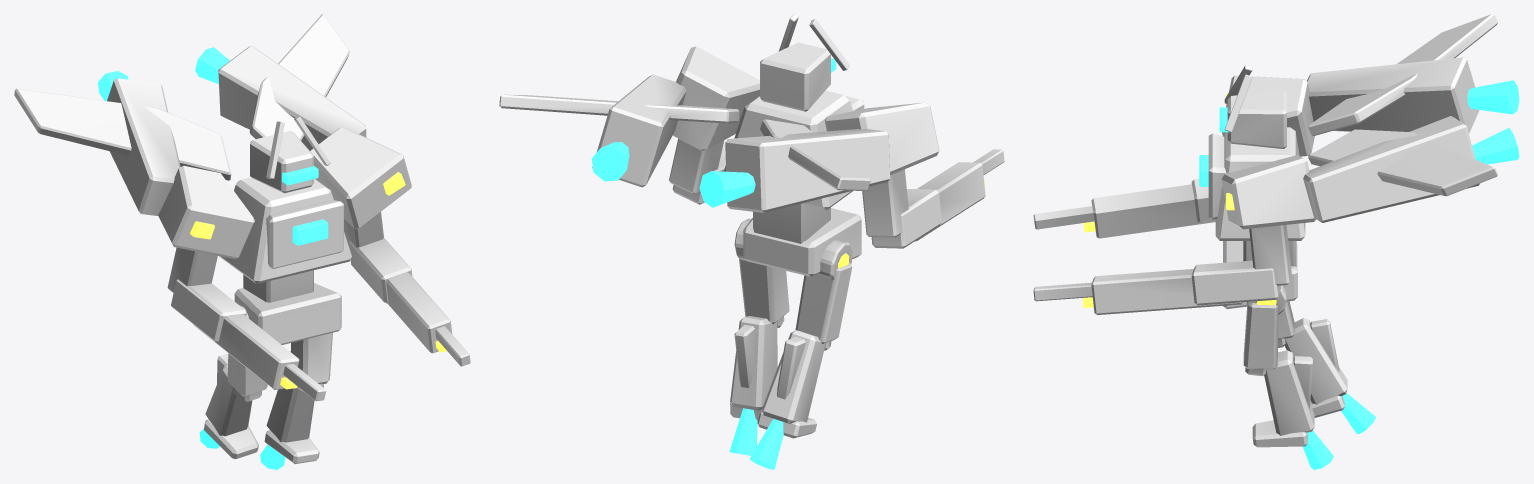
File: e1_valkyrie_mech.glb
3 views of the same model, side by side, from view 1: azimuth 30°, elevation 25°; view 2: azimuth 150°, elevation 25°; view 3: azimuth 270°, elevation 25° (orthographic). The views are drawn at different scales.
Parts seen in each view (by area): view 1: WingMain_L, BoosterPod_R, BoosterPod_L, Pauldron_L, Pauldron_R, TorsoChest, WingMain_R, PelvisSkirt, ChestArmorPlate, RailgunBody_L, RailgunBody_R, Forearm_L (+17 smaller); view 2: BoosterPod_L, BoosterPod_R, Pauldron_R, Pauldron_L, PelvisSkirt, HeadHelm, TorsoChest, Leg_L1_Thigh, WingMain_R, Leg_L1_Greave, WingMain_L, Leg_R1_Greave (+15 smaller); view 3: BoosterPod_L, BoosterPod_R, WingMain_R, Pauldron_R, RailgunBody_L, WingMain_L, RailgunBody_R, Forearm_R, HeadHelm, TorsoChest, Leg_R1_Greave, Leg_L1_Greave (+16 smaller).
Boxes of the visible parts, bbox=[...] form: WingMain_L: bbox=[14, 88, 231, 180]; BoosterPod_R: bbox=[218, 45, 366, 150]; BoosterPod_L: bbox=[107, 78, 180, 215]; Pauldron_L: bbox=[158, 165, 255, 259]; Pauldron_R: bbox=[310, 127, 411, 229]; TorsoChest: bbox=[219, 177, 351, 283]; WingMain_R: bbox=[249, 14, 349, 140]; PelvisSkirt: bbox=[234, 283, 341, 344]; ChestArmorPlate: bbox=[266, 200, 343, 268]; RailgunBody_L: bbox=[193, 314, 299, 389]; RailgunBody_R: bbox=[386, 272, 452, 353]; Forearm_L: bbox=[171, 279, 246, 342]; BoosterPod_L: bbox=[725, 129, 890, 212]; BoosterPod_R: bbox=[592, 74, 686, 187]; Pauldron_R: bbox=[672, 46, 759, 150]; Pauldron_L: bbox=[824, 102, 939, 174]; PelvisSkirt: bbox=[743, 208, 861, 276]; HeadHelm: bbox=[760, 42, 830, 111]; TorsoChest: bbox=[724, 90, 852, 210]; Leg_L1_Thigh: bbox=[795, 262, 852, 343]; WingMain_R: bbox=[499, 94, 739, 123]; Leg_L1_Greave: bbox=[761, 330, 825, 423]; WingMain_L: bbox=[760, 119, 870, 191]; Leg_R1_Greave: bbox=[730, 316, 777, 410]; BoosterPod_L: bbox=[1307, 57, 1479, 133]; BoosterPod_R: bbox=[1303, 116, 1479, 222]; WingMain_R: bbox=[1308, 129, 1497, 196]; Pauldron_R: bbox=[1221, 155, 1316, 229]; RailgunBody_L: bbox=[1091, 184, 1215, 238]; WingMain_L: bbox=[1308, 14, 1497, 135]; RailgunBody_R: bbox=[1091, 269, 1242, 314]; Forearm_R: bbox=[1191, 260, 1280, 305]; HeadHelm: bbox=[1227, 90, 1286, 148]; TorsoChest: bbox=[1215, 127, 1305, 240]; Leg_R1_Greave: bbox=[1264, 350, 1314, 435]; Leg_L1_Greave: bbox=[1284, 318, 1347, 404].
Size of the model in its own units: 2.18 by 2.54 by 2.88.
